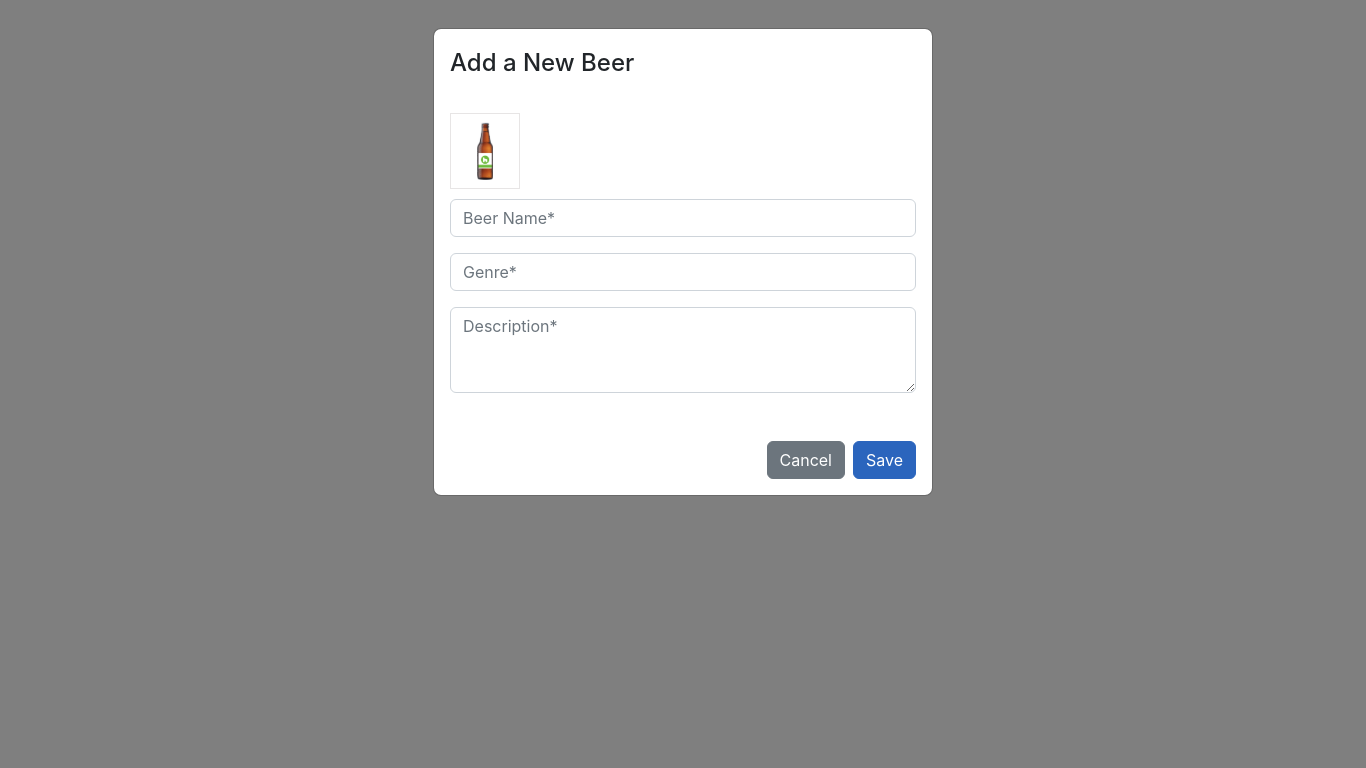
Test: Handles form validation › renders name field is empty
The image size is (1366, 768).
Type "Test Beer" into the field with placeholder "Beer Name*" at (683, 218), box [450,199,916,237]
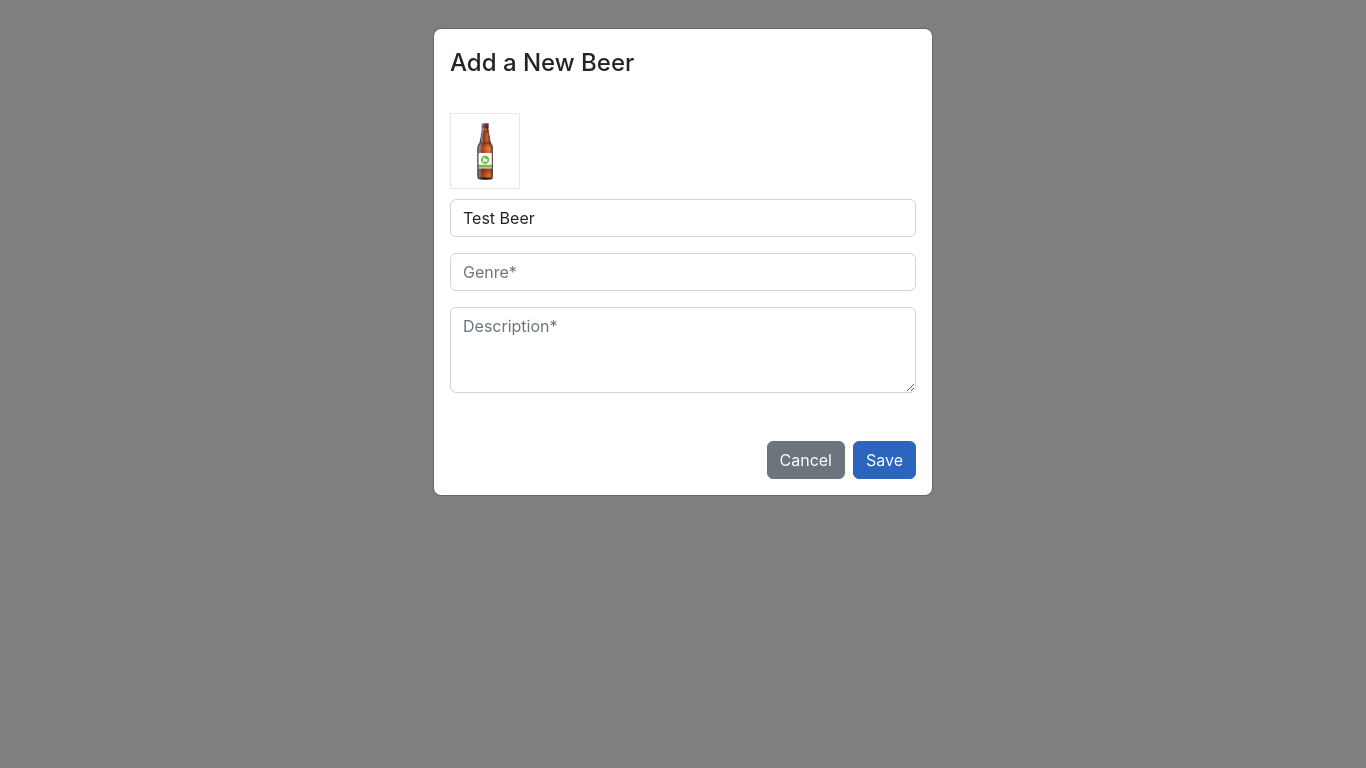
Click the button "Save" at (884, 460), box [853,441,916,479]
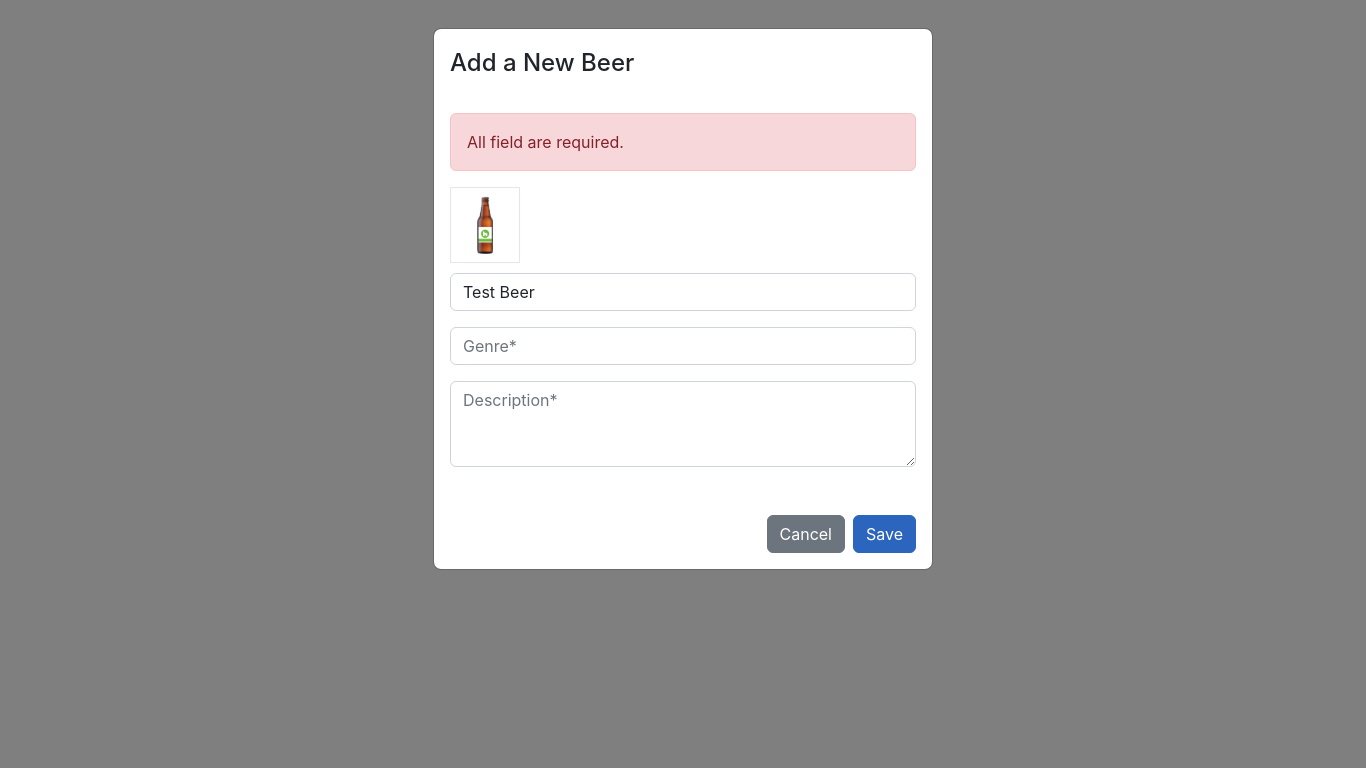
Check: the text "All field are required." is shown, box [450,113,916,171]
